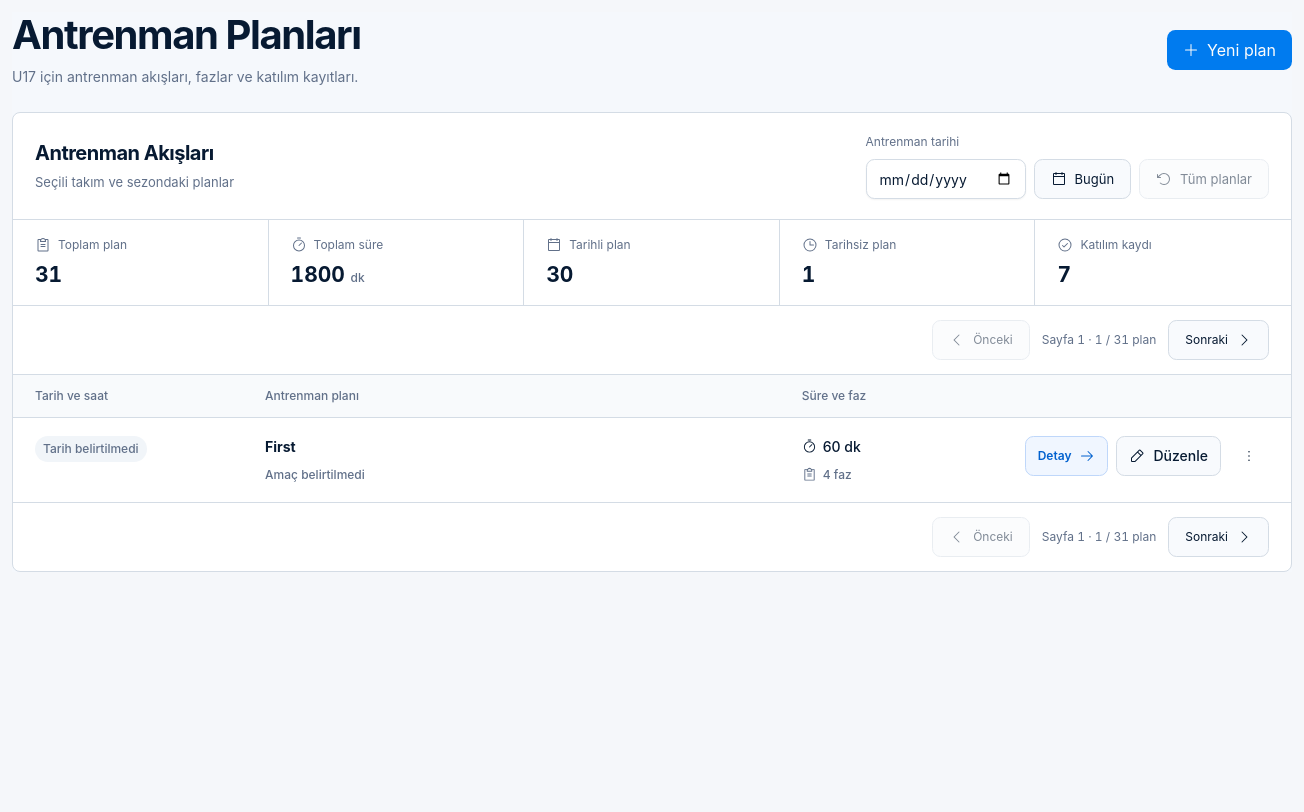
Test: independent training catalog › omits legacy season for all-seasons and distinguishes an empty continuation
The width and height of the screenshot is (1304, 812).
Check: the text "First" is shown, box [265,438,296,455]
Click the 1st button "Sonraki" at {"x": 1219, "y": 340}, box [1168,320,1269,360]
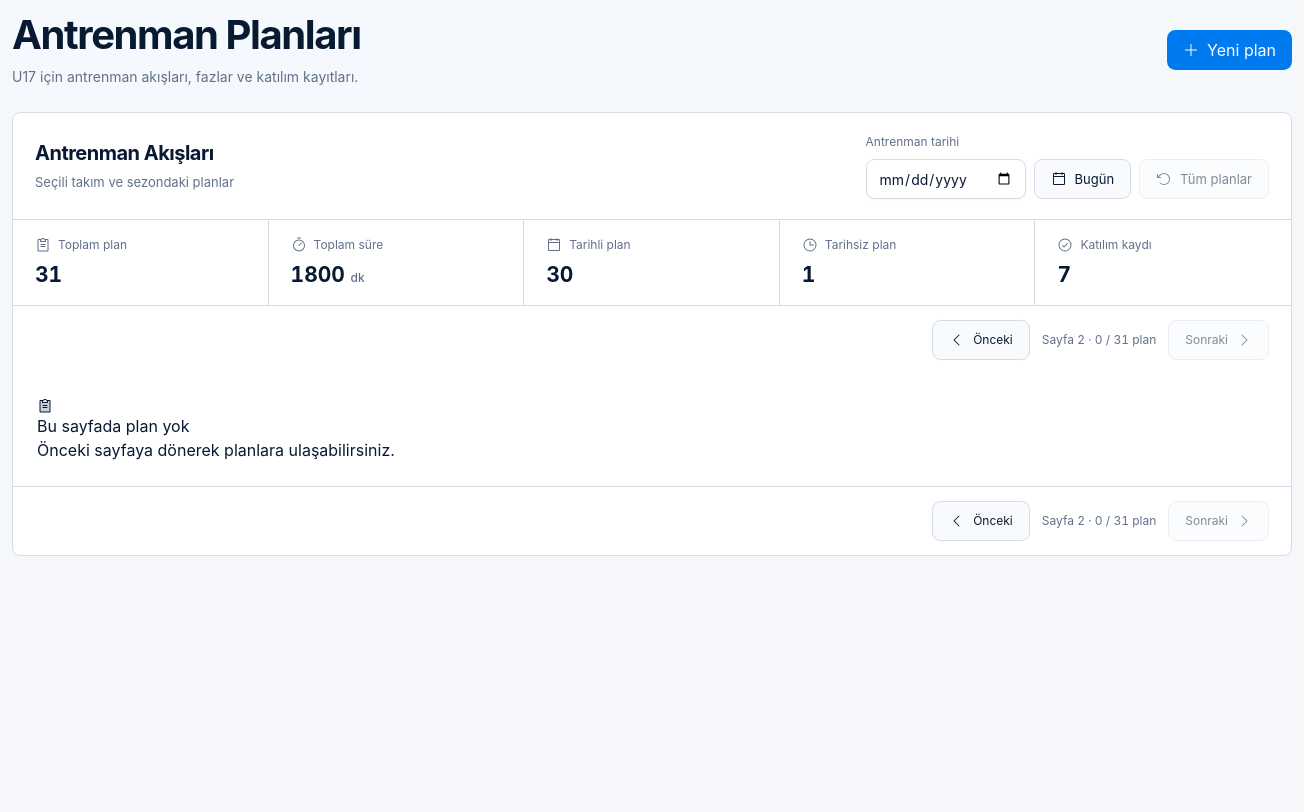
Check: the heading "Bu sayfada plan yok" is shown, box [37,416,190,436]
Check: the navigation bar named "Antrenman sayfaları" shows "0 / 31 plan", box [1042,332,1156,347]
